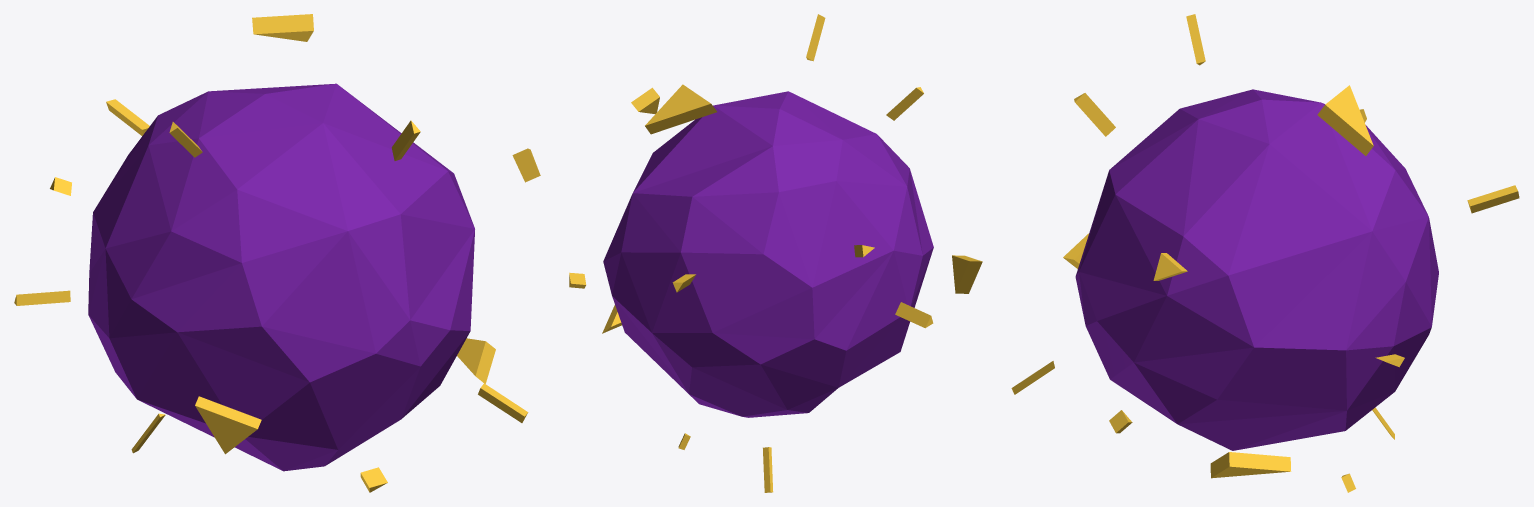
The model's file is Planet_02_b.fbx.
3 views of the same model, side by side, from view 1: azimuth 30°, elevation 25°; view 2: azimuth 150°, elevation 25°; view 3: azimuth 270°, elevation 25° (orthographic). The views are drawn at different scales.
Visible parts, largest first — view 1: Planet_010; view 2: Planet_010; view 3: Planet_010.
Part boxes in pixels (x1,y1,x2,y2): Planet_010: (14, 14, 540, 492); Planet_010: (569, 14, 982, 492); Planet_010: (1011, 14, 1519, 492).
Size of the model in its own units: 90.76 by 85.18 by 98.85.
